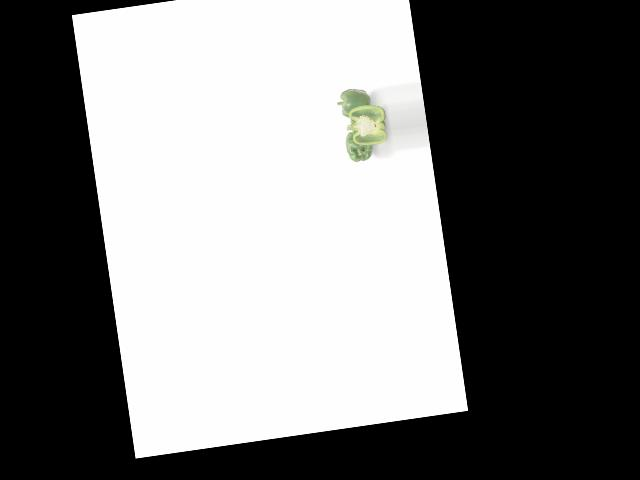bell_pepper: (341, 125, 378, 166)
